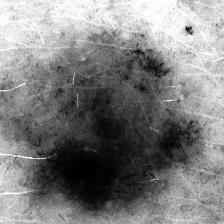Benign Marking or Mole: (28, 47, 200, 211)
